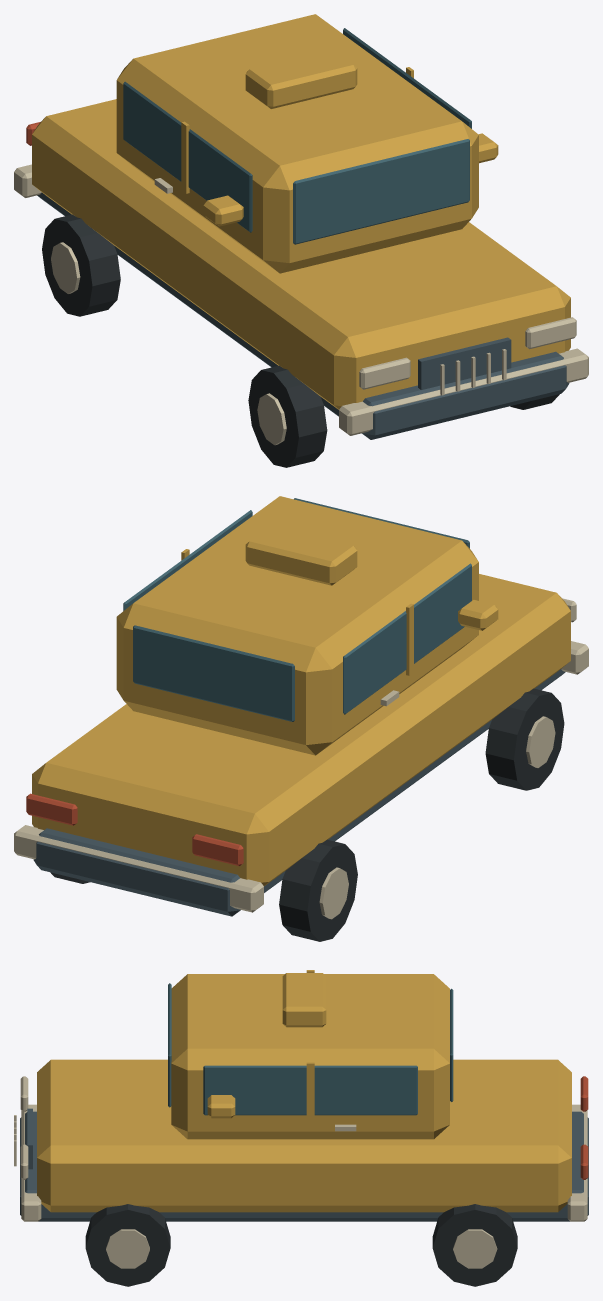
Rendered from vehicle_taxi.glb.
The picture shows the model from 3 angles, top to bottom: view 1: azimuth 30°, elevation 25°; view 2: azimuth 150°, elevation 25°; view 3: azimuth 270°, elevation 25°; orthographic projection. The views are drawn at different scales.
Visible parts, largest first — view 1: vehicle_taxi; view 2: vehicle_taxi; view 3: vehicle_taxi.
Boxes of the visible parts, x1=… form: vehicle_taxi: x1=14, y1=14, x2=588, y2=467; vehicle_taxi: x1=14, y1=496, x2=588, y2=941; vehicle_taxi: x1=14, y1=970, x2=588, y2=1286.
Size of the model in its own units: 2.19 by 2.14 by 4.6.
